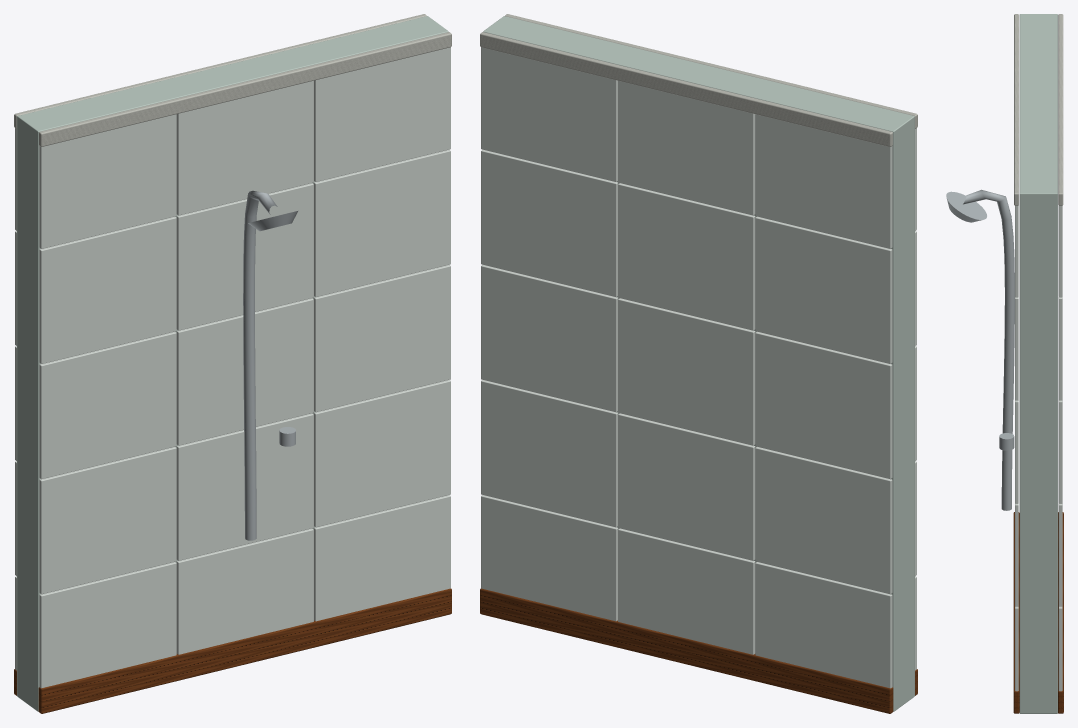
Rendered from liminal-spaces-kit-shower-wall-0427eaa6__25229.glb.
3 renders of one model, left to right at view 1: azimuth 30°, elevation 25°; view 2: azimuth 150°, elevation 25°; view 3: azimuth 270°, elevation 25°, orthographic. The views are drawn at different scales.
Parts seen in each view (by area): view 1: shower-wall; view 2: shower-wall; view 3: shower-wall.
Boxes of the visible parts, x1,y1,x2,y2 form: shower-wall: [14, 14, 451, 713]; shower-wall: [480, 14, 917, 713]; shower-wall: [946, 14, 1063, 713].
Size of the model in its own units: 2 by 2.7 by 0.553.
5 materials, 2 textured.
